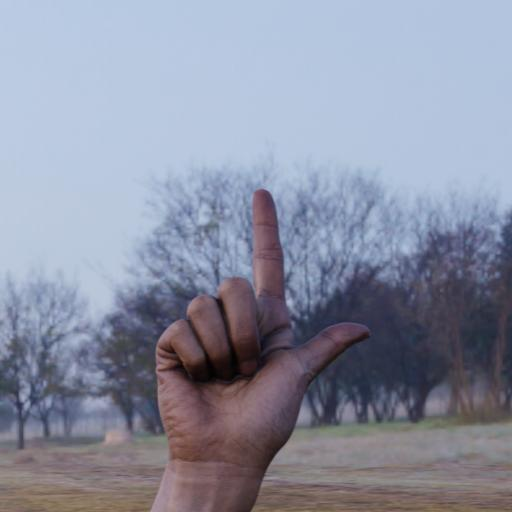L: (136, 171, 382, 481)
